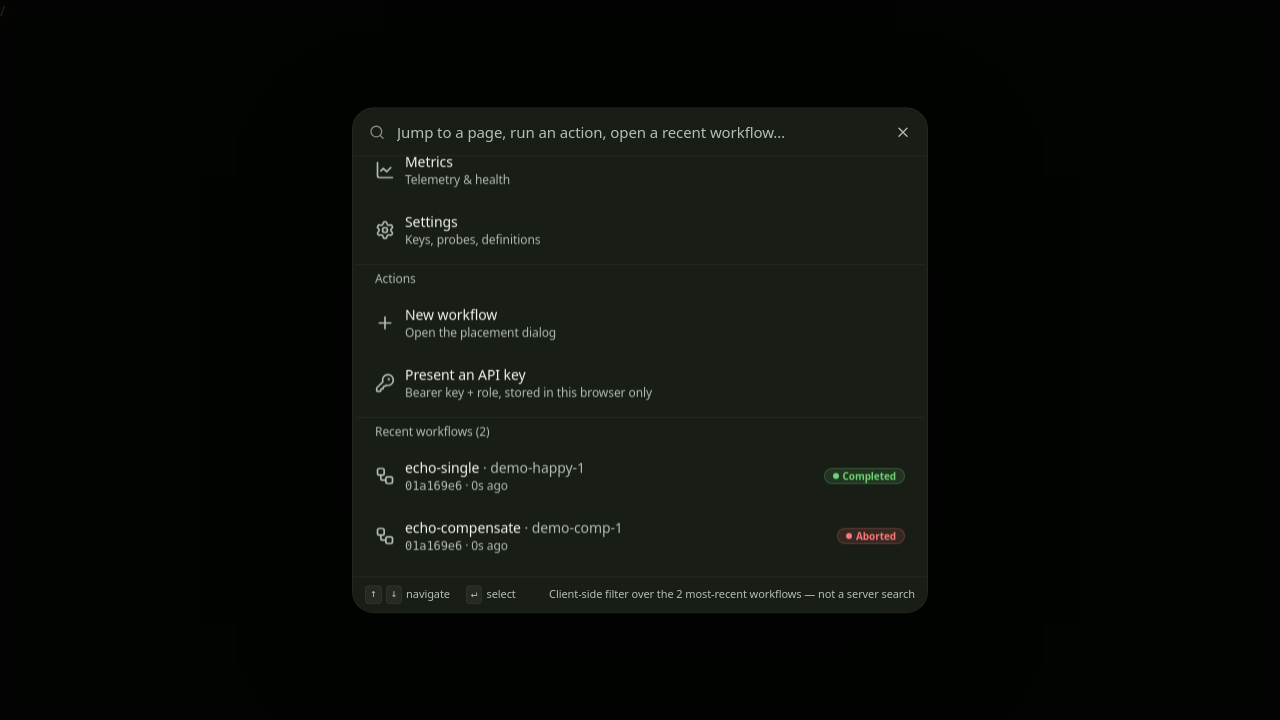
Scenario: CommandMenu › navigates to the real workflow detail route from a recent item
(page scrolled)
Click the option "echo-compensate · demo-comp-1 01a169e6 · 0s ago Aborted" at (463, 528), box [367,506,913,566]
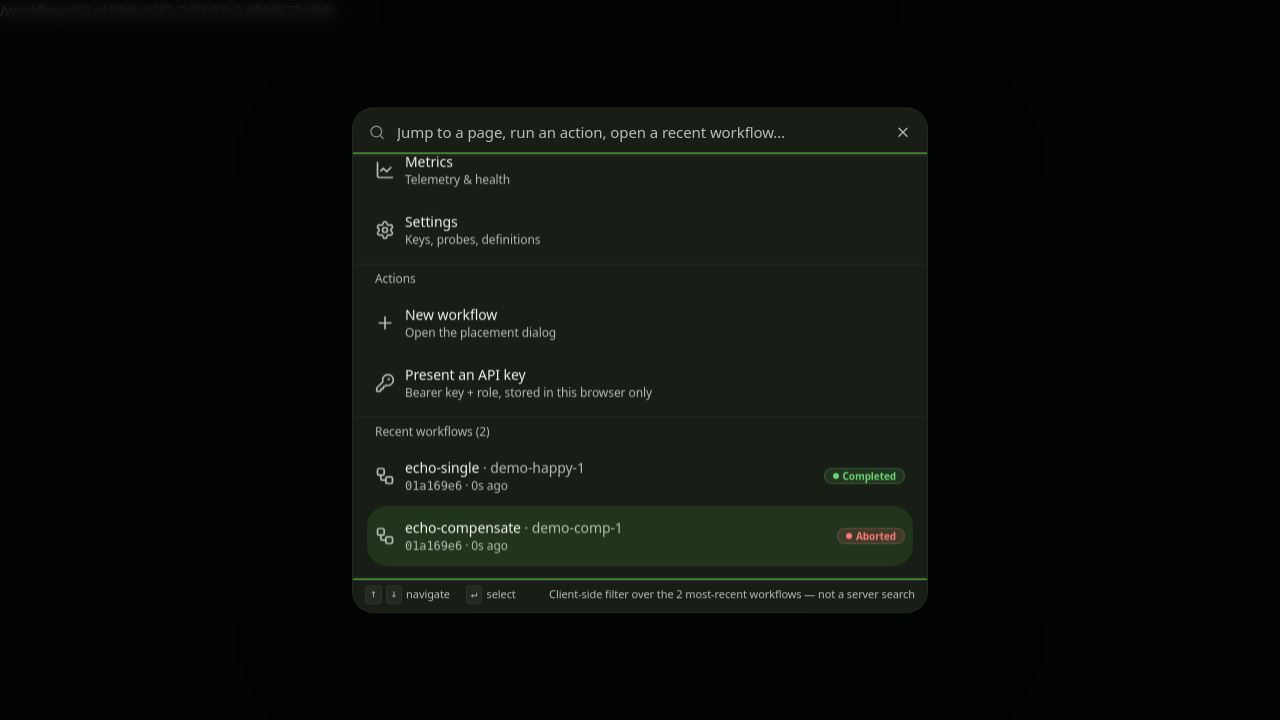
Expected: the text with test id "path" reads "/workflows/01a169e6-43f3-7d7f-97a0-df4d977e4bfc", [0,1,336,20]
